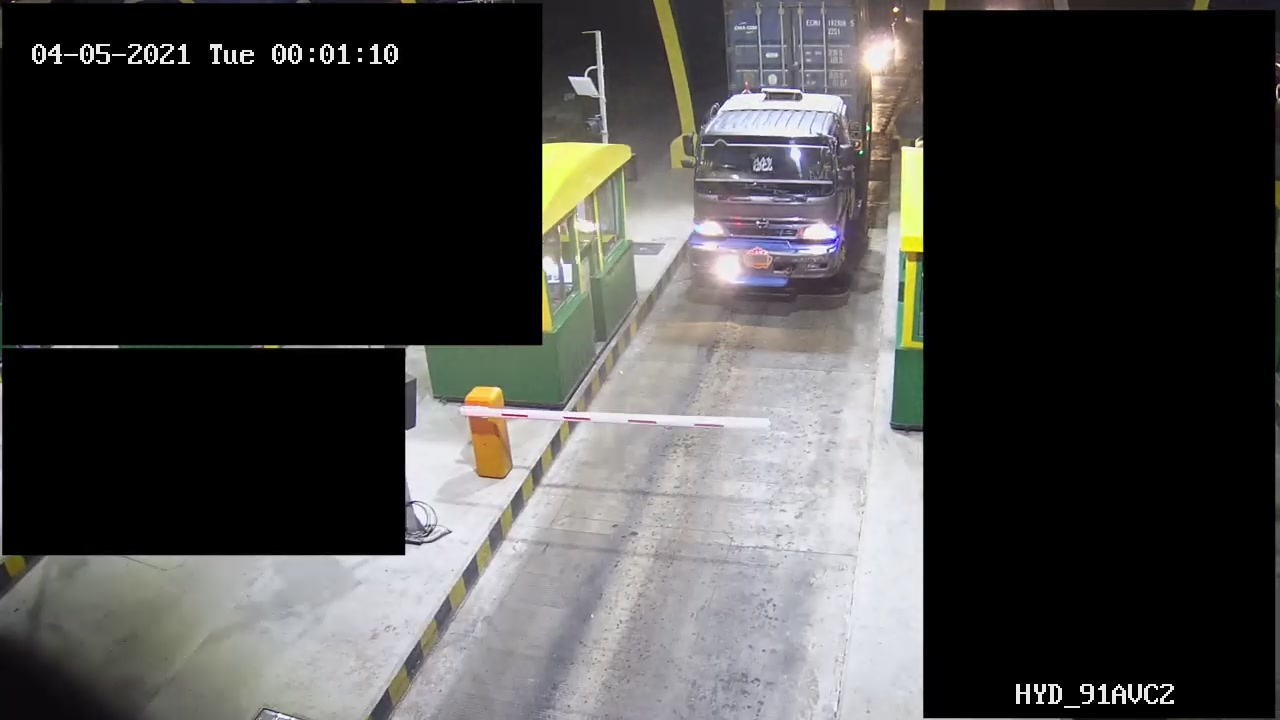F6: (686, 1, 871, 301)
